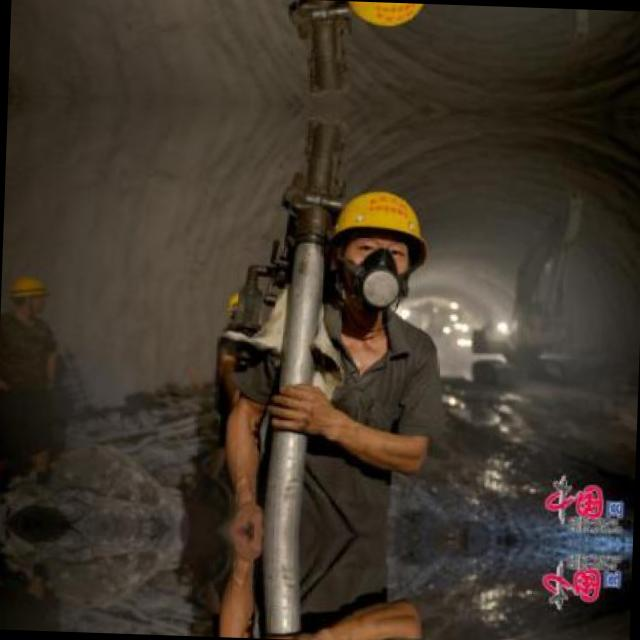helmet: (314, 174, 433, 324), (324, 0, 441, 43), (6, 270, 48, 314)
